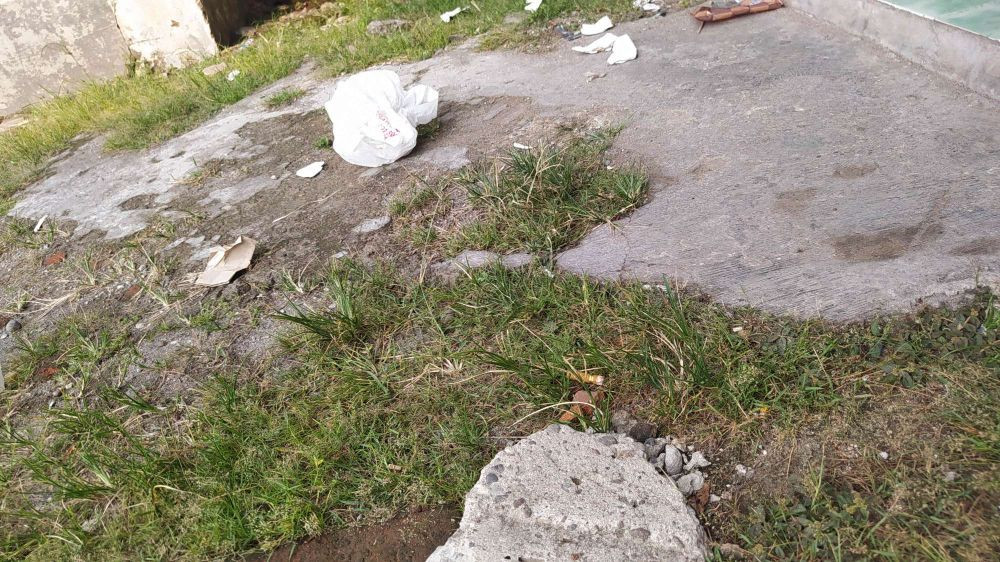plastik: (316, 60, 439, 169), (569, 19, 645, 68), (438, 4, 472, 24), (518, 2, 545, 16)
